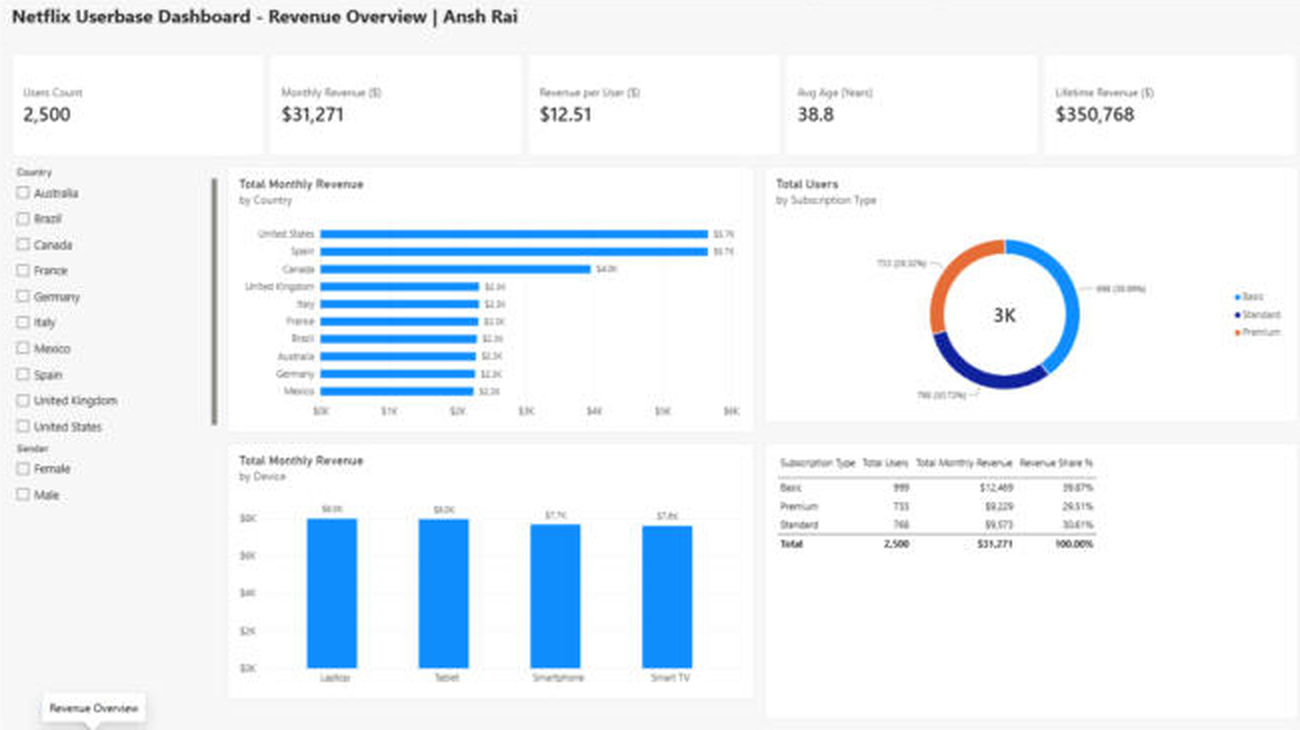

This screenshot's page, from the dashboard's own definition file:
{"tool":"powerbi","page":{"name":"Revenue Overview","canvas":[1920,1080],"ordinal":0},"visuals":[{"type":"clusteredBarChart","fields":{"Category":["Country.Country"],"Y":["Netflix Userbase.Total Monthly Revenue"]},"box":[335,250,770,390],"z":1000},{"type":"donutChart","fields":{"Category":["Subscription.Subscription Type"],"Y":["Netflix Userbase.Total Users"]},"box":[1120,250,780,375],"z":2000},{"type":"clusteredColumnChart","fields":{"Category":["Device.Device"],"Y":["Netflix Userbase.Total Monthly Revenue"]},"box":[335,655,770,375],"z":3000},{"type":"tableEx","fields":{"Values":["Subscription.Subscription Type","Netflix Userbase.Total Users","Netflix Userbase.Total Monthly Revenue","Netflix Userbase.Revenue Share %"]},"box":[1120,655,780,405],"z":4000},{"type":"slicer","fields":{"Values":["Country.Country"]},"box":[20,250,300,390],"z":5000},{"type":"slicer","fields":{"Values":["Gender.Gender"]},"box":[20,655,300,405],"z":6000},{"type":"textbox","box":[20,10,1820,65],"z":7000},{"type":"cardVisual","fields":{"Data":["Netflix Userbase.Users Count","Netflix Userbase.Monthly Revenue ($)","Netflix Userbase.Revenue per User ($)","Netflix Userbase.Avg Age (Years)","Netflix Userbase.Lifetime Revenue ($)"]},"box":[20,85,1880,150],"z":7001}]}

Visuals, with their boxes in screenshot pixels (x1, y1, x2, y2), scaled from the page's 1920x1080 canvas onto the 1300x730 screenshot:
clusteredBarChart - Country.Country x Netflix Userbase.Total Monthly Revenue: 227:169:748:433
donutChart - Subscription.Subscription Type x Netflix Userbase.Total Users: 758:169:1286:422
clusteredColumnChart - Device.Device x Netflix Userbase.Total Monthly Revenue: 227:443:748:696
tableEx - Subscription.Subscription Type x Netflix Userbase.Total Users: 758:443:1286:716
slicer - Country.Country: 14:169:217:433
slicer - Gender.Gender: 14:443:217:716
textbox: 14:7:1246:51
cardVisual - Netflix Userbase.Users Count x Netflix Userbase.Monthly Revenue ($): 14:57:1286:159
